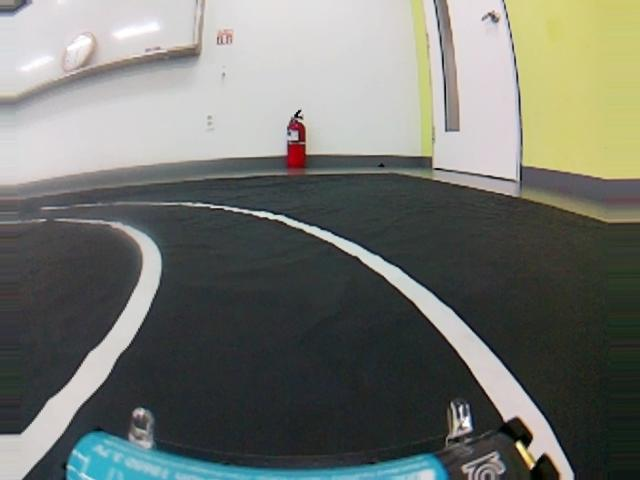straight: (6, 250, 620, 480)
